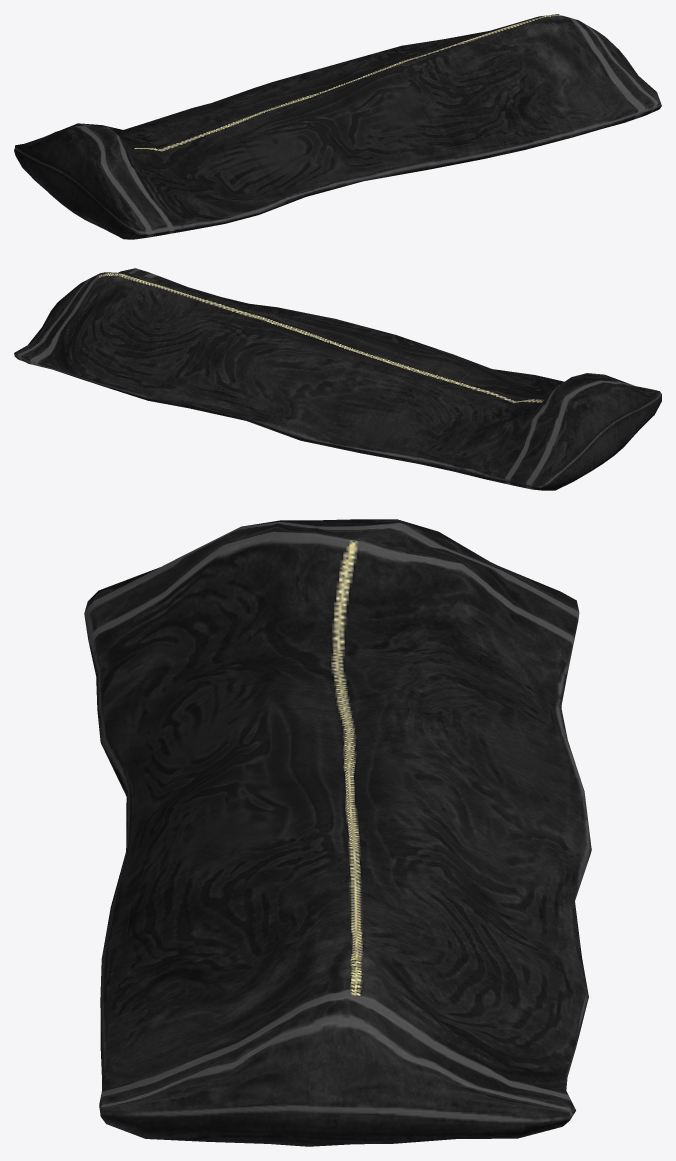
Rendered from HH_Body_Bag_02.fbx.
3 renders of one model, top to bottom at view 1: azimuth 30°, elevation 25°; view 2: azimuth 150°, elevation 25°; view 3: azimuth 270°, elevation 25°, orthographic. The views are drawn at different scales.
Visible parts, largest first — view 1: HH_Body_Bag_02_LOD0; view 2: HH_Body_Bag_02_LOD0; view 3: HH_Body_Bag_02_LOD0.
Boxes of the visible parts, left/top/right/bottom form: HH_Body_Bag_02_LOD0: left=14, top=14, right=661, bottom=239; HH_Body_Bag_02_LOD0: left=14, top=268, right=661, bottom=490; HH_Body_Bag_02_LOD0: left=84, top=519, right=591, bottom=1146.
Size of what is drawn, in the model's own units: 203 by 27.38 by 81.09.
